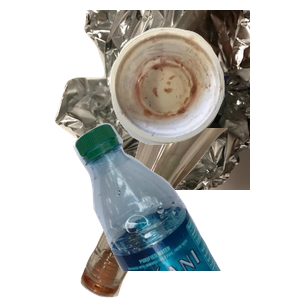glass: (78, 128, 298, 300)
metal: (52, 10, 292, 190)
plastic: (71, 120, 300, 300)
trash: (107, 25, 300, 162)
